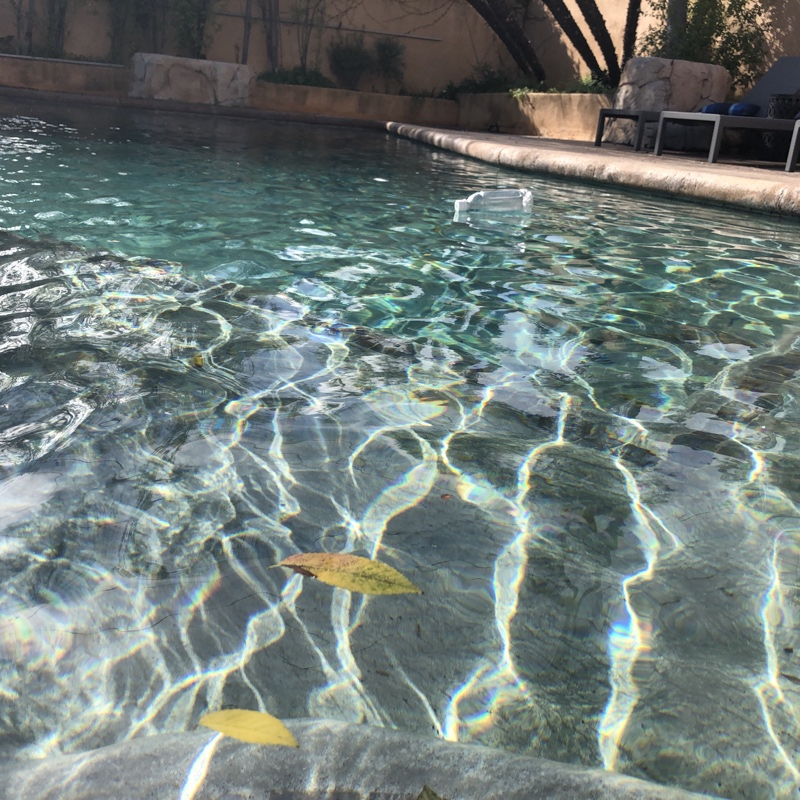Plastic Bottle: (450, 184, 537, 226)
